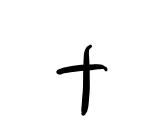plus: (55, 46, 108, 115)
